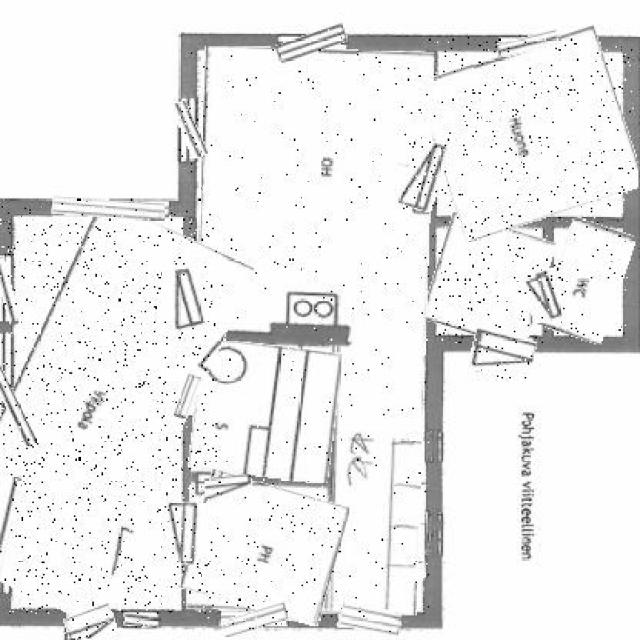door: (403, 140, 446, 211), (471, 331, 535, 378), (165, 503, 208, 565), (163, 271, 205, 332), (523, 270, 565, 322), (64, 606, 116, 640), (205, 475, 252, 503)
window: (0, 334, 25, 448), (52, 198, 165, 218), (277, 28, 348, 58), (338, 604, 402, 634), (0, 475, 15, 592), (222, 606, 288, 632), (175, 100, 203, 158), (497, 34, 558, 54), (0, 255, 14, 323), (178, 374, 197, 418), (125, 614, 158, 628)
zone: (191, 48, 429, 614), (0, 206, 217, 614), (427, 37, 636, 229), (186, 478, 342, 618), (192, 342, 338, 478), (428, 220, 549, 343), (546, 222, 628, 342)
